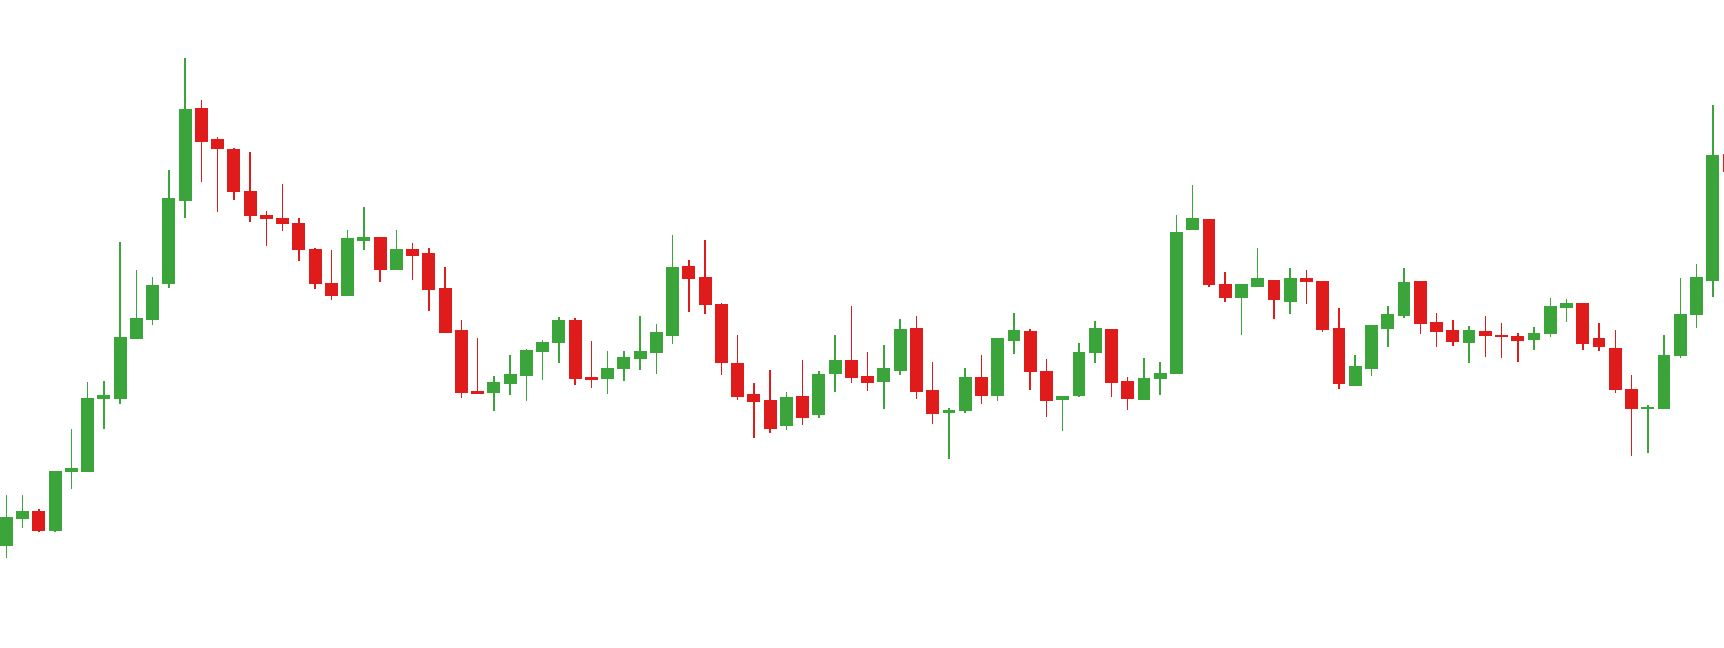buy: (1333, 307, 1672, 458), (489, 321, 797, 442)
